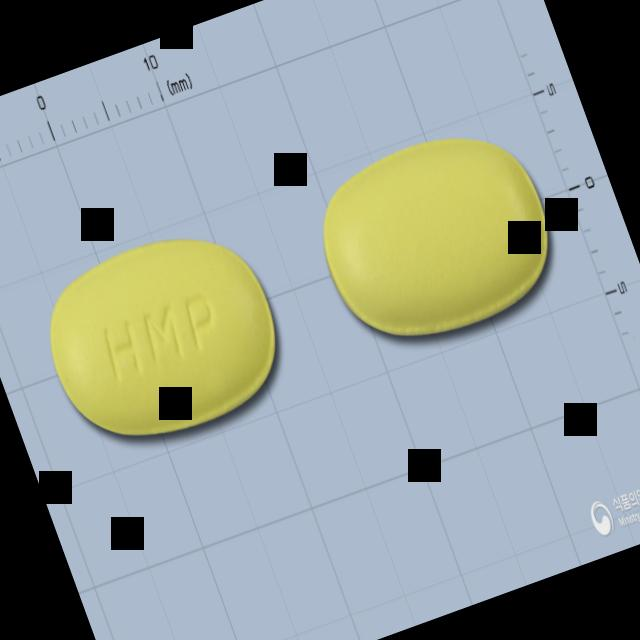Clari: (22, 203, 308, 472)
